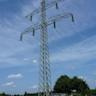power_tower: (19, 0, 75, 96)
